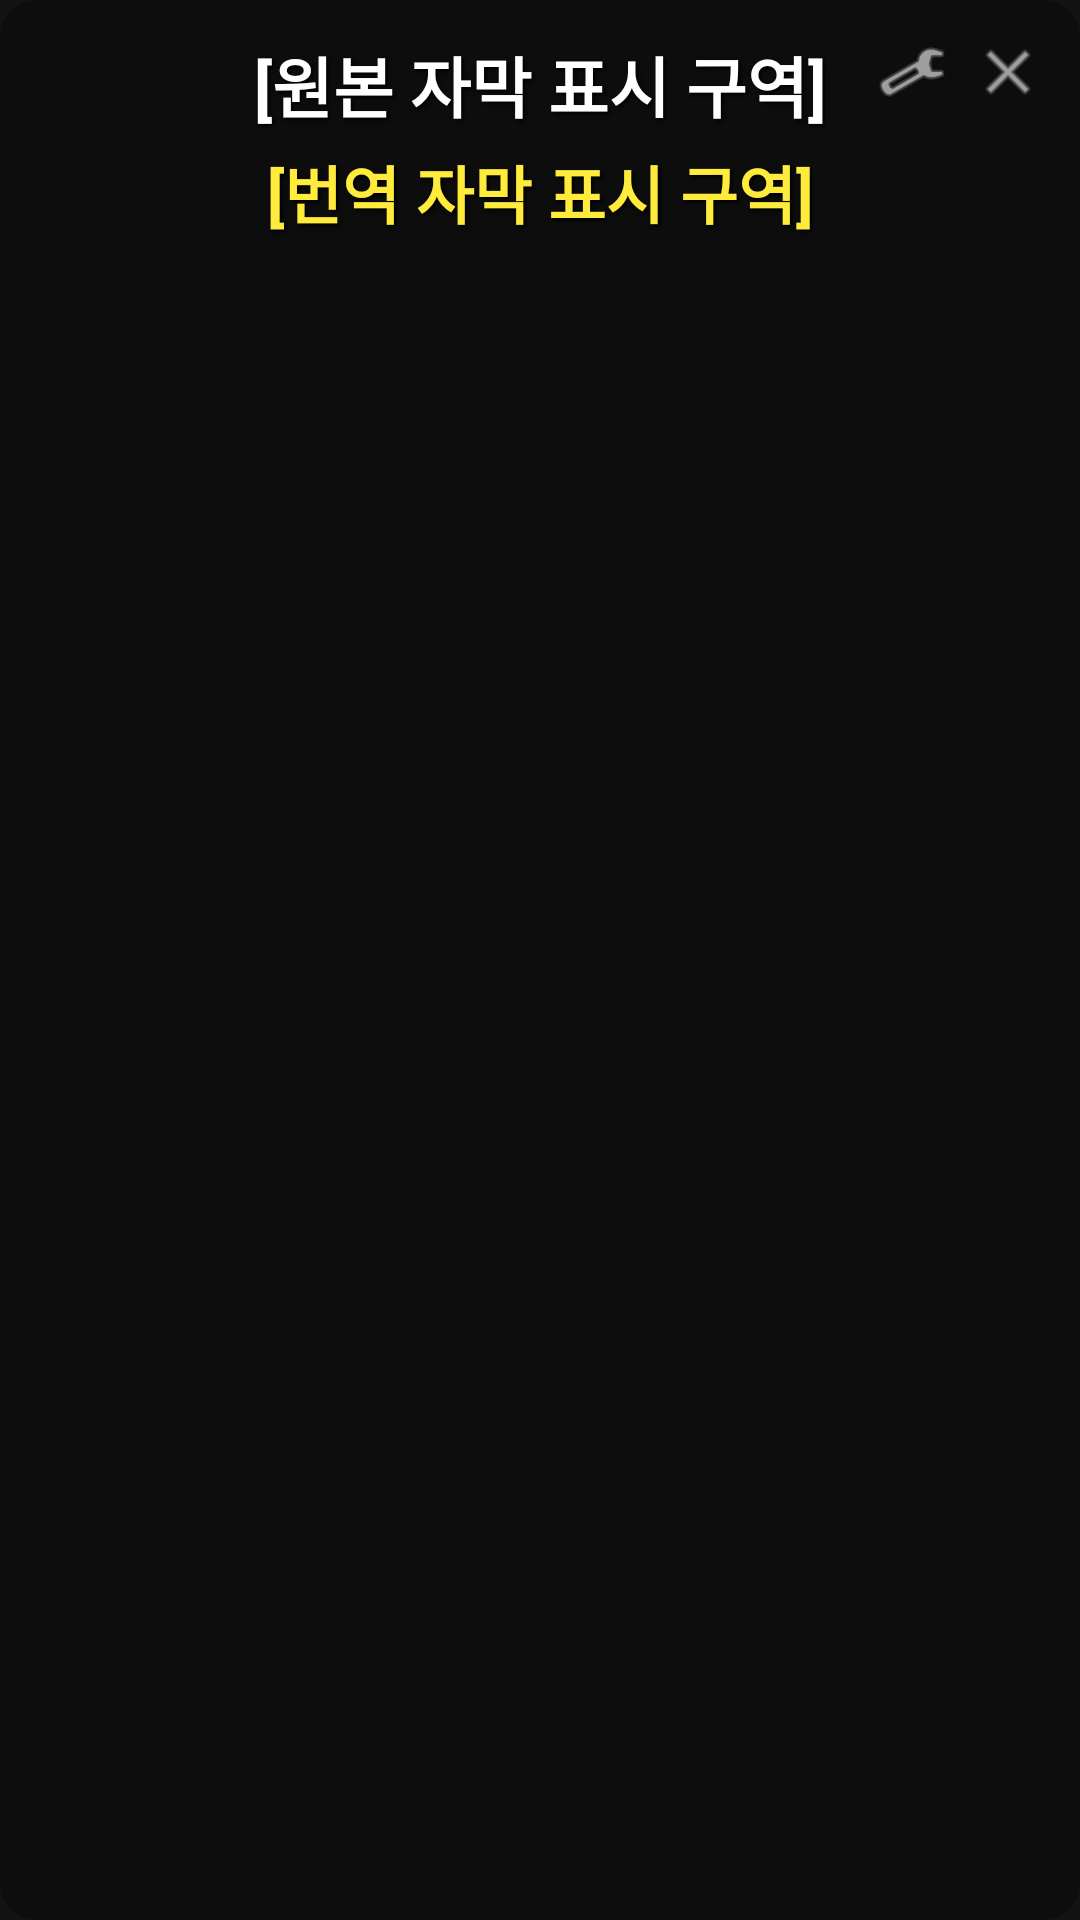

Where icons sit on this 1080 x 1920 app screen, as (x1, y1, x2, y2):
close clear cancel: (986, 50, 1030, 94)
preferences: (880, 47, 944, 97)
